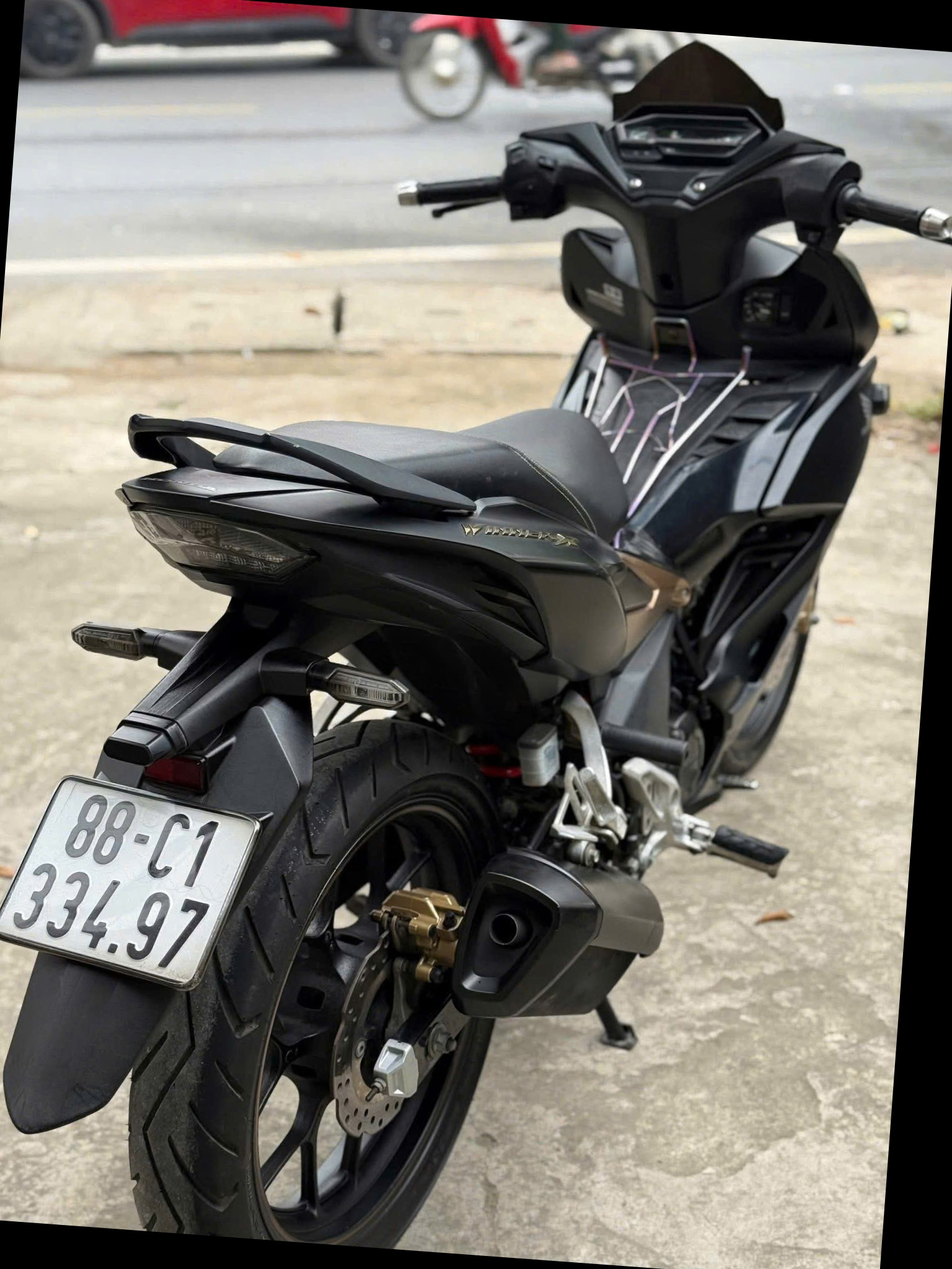Bien-so: (65, 843, 331, 1070)
